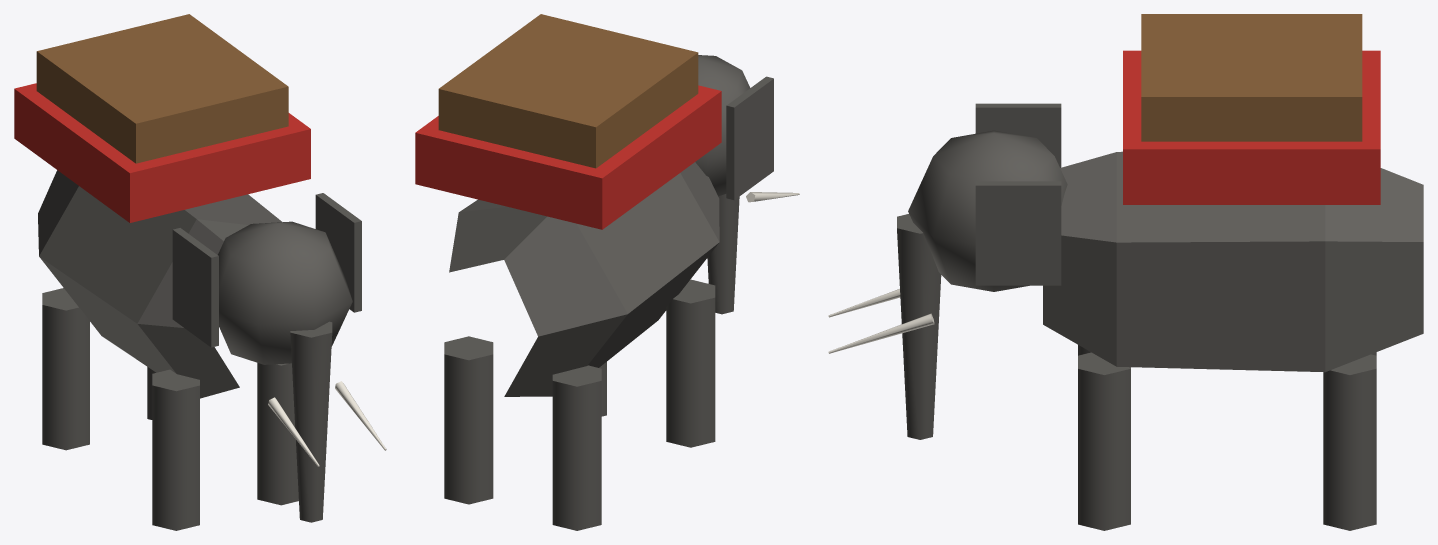
File: unit_mil_war_elephant_a02_lod1.glb
The picture shows the model from 3 angles, left to right: view 1: azimuth 30°, elevation 25°; view 2: azimuth 150°, elevation 25°; view 3: azimuth 270°, elevation 25°; orthographic projection. The views are drawn at different scales.
Visible parts, largest first — view 1: body; view 2: body; view 3: body.
Boxes of the visible parts, <box> form: body: <box>14,14,386,530</box>; body: <box>415,14,799,530</box>; body: <box>828,14,1423,530</box>.
Bounding box in the file's own units: 1.9 × 3.9 × 4.85.
